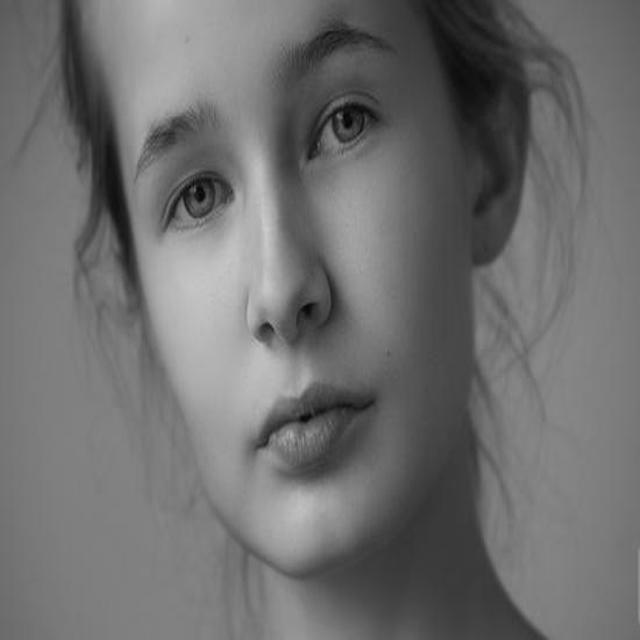Neutral: (98, 1, 472, 578)
